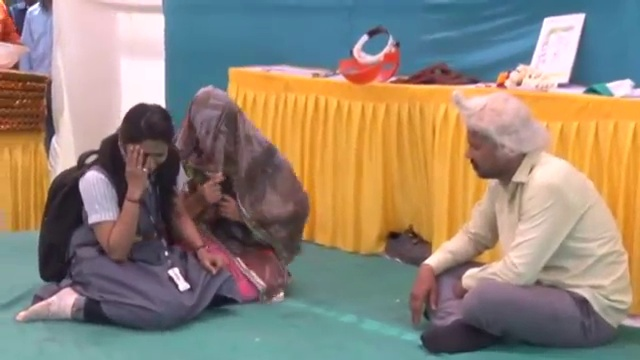helmet: (0, 41, 33, 73)
helmet_off: (455, 93, 540, 186), (113, 101, 176, 170), (183, 92, 237, 140)
person: (401, 92, 638, 336), (29, 106, 218, 315), (166, 91, 306, 295), (17, 1, 55, 82)
